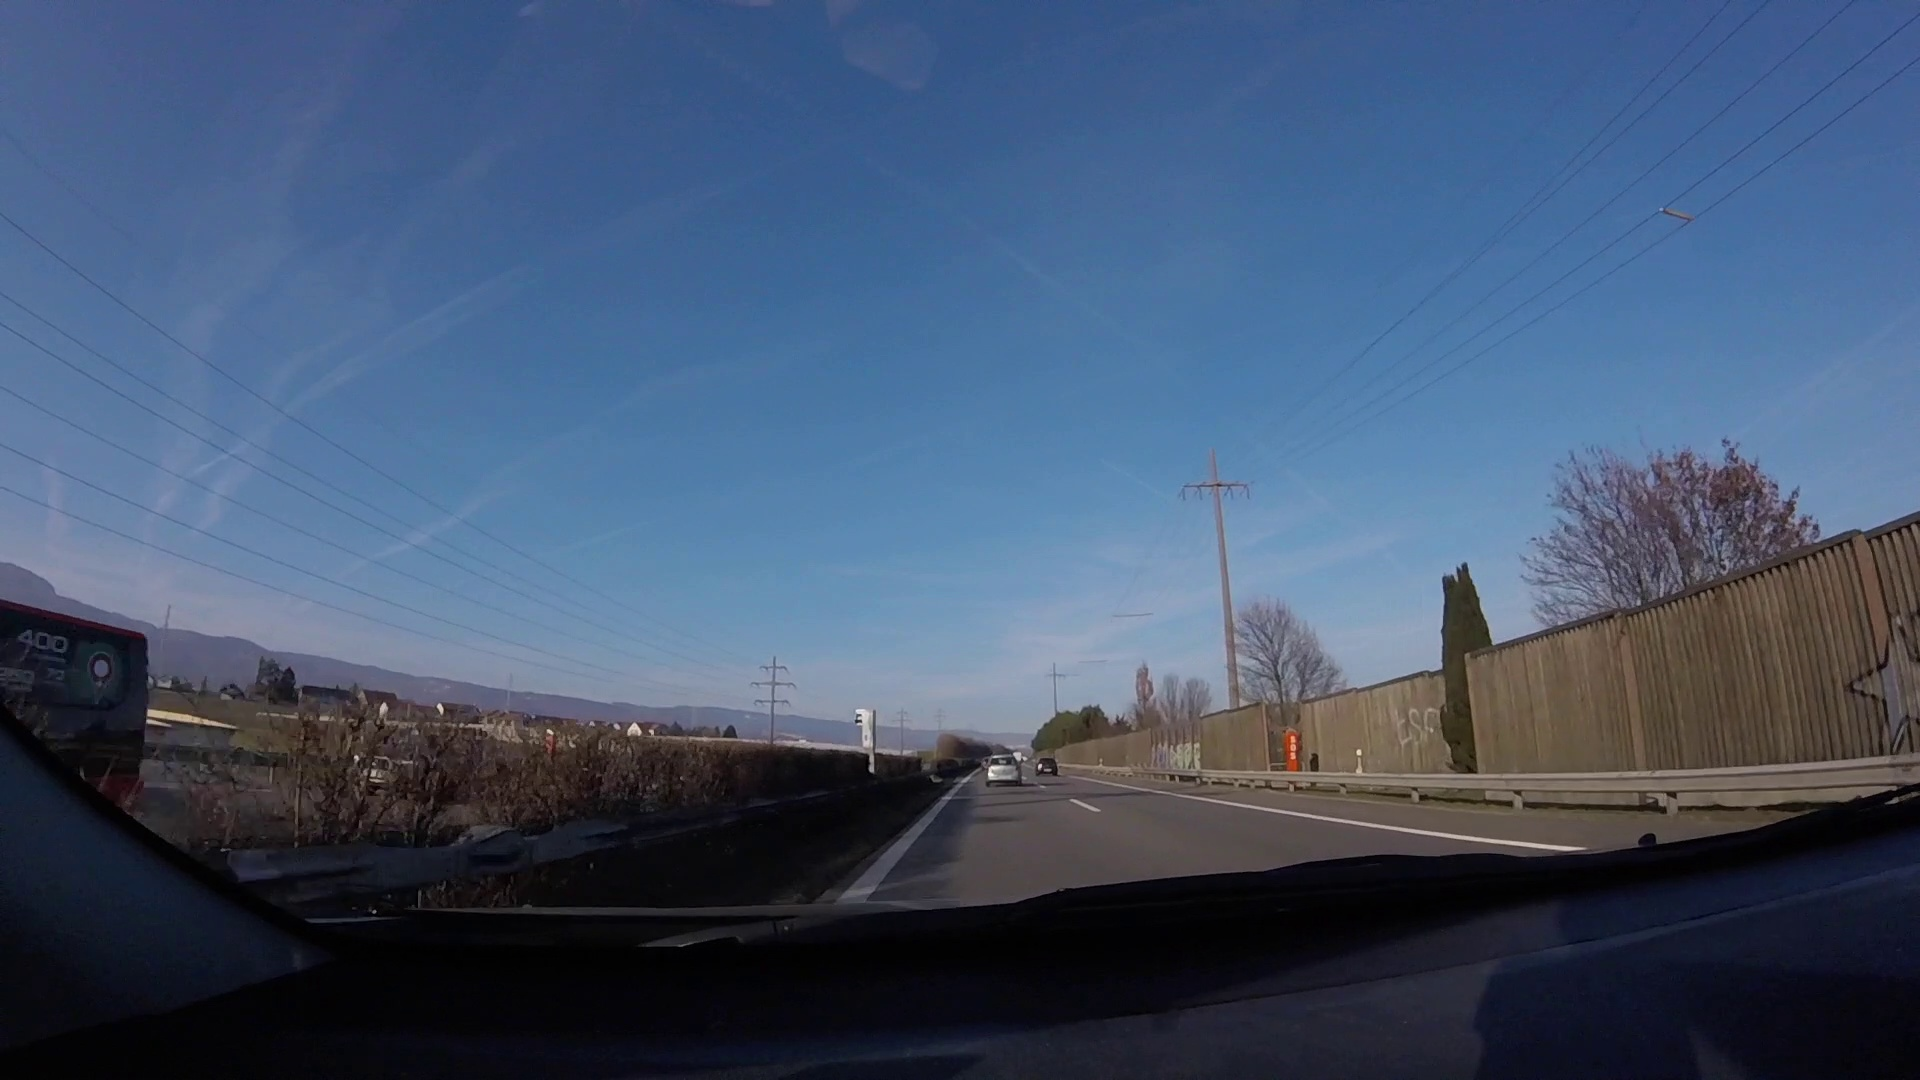radar: (852, 707, 881, 778)
